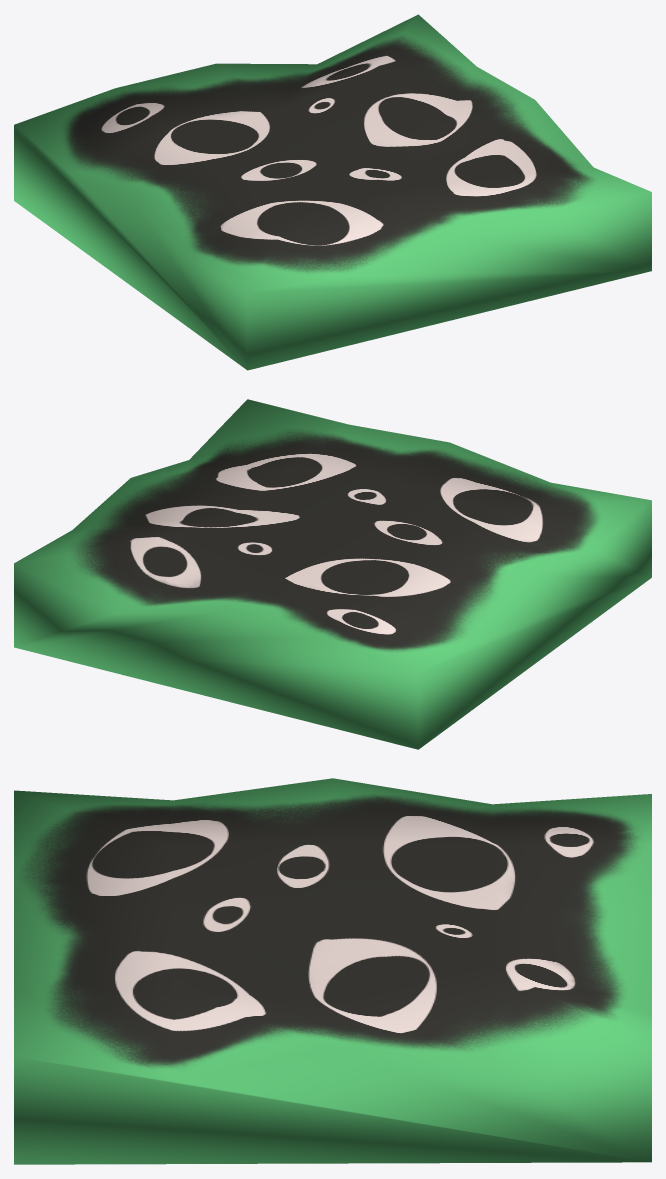
The model's file is Light_Floor_Detailed.fbx.
3 renders of one model, top to bottom at view 1: azimuth 30°, elevation 25°; view 2: azimuth 150°, elevation 25°; view 3: azimuth 270°, elevation 25°, orthographic. The views are drawn at different scales.
Parts seen in each view (by area): view 1: Bright_Floor_Detailed; view 2: Bright_Floor_Detailed; view 3: Bright_Floor_Detailed.
Boxes of the visible parts, x1,y1,x2,y2 form: Bright_Floor_Detailed: (14, 14, 651, 370); Bright_Floor_Detailed: (14, 399, 651, 749); Bright_Floor_Detailed: (14, 778, 651, 1164).
Size of the model in its own units: 150 by 35 by 150.
1 material, 1 textured.
